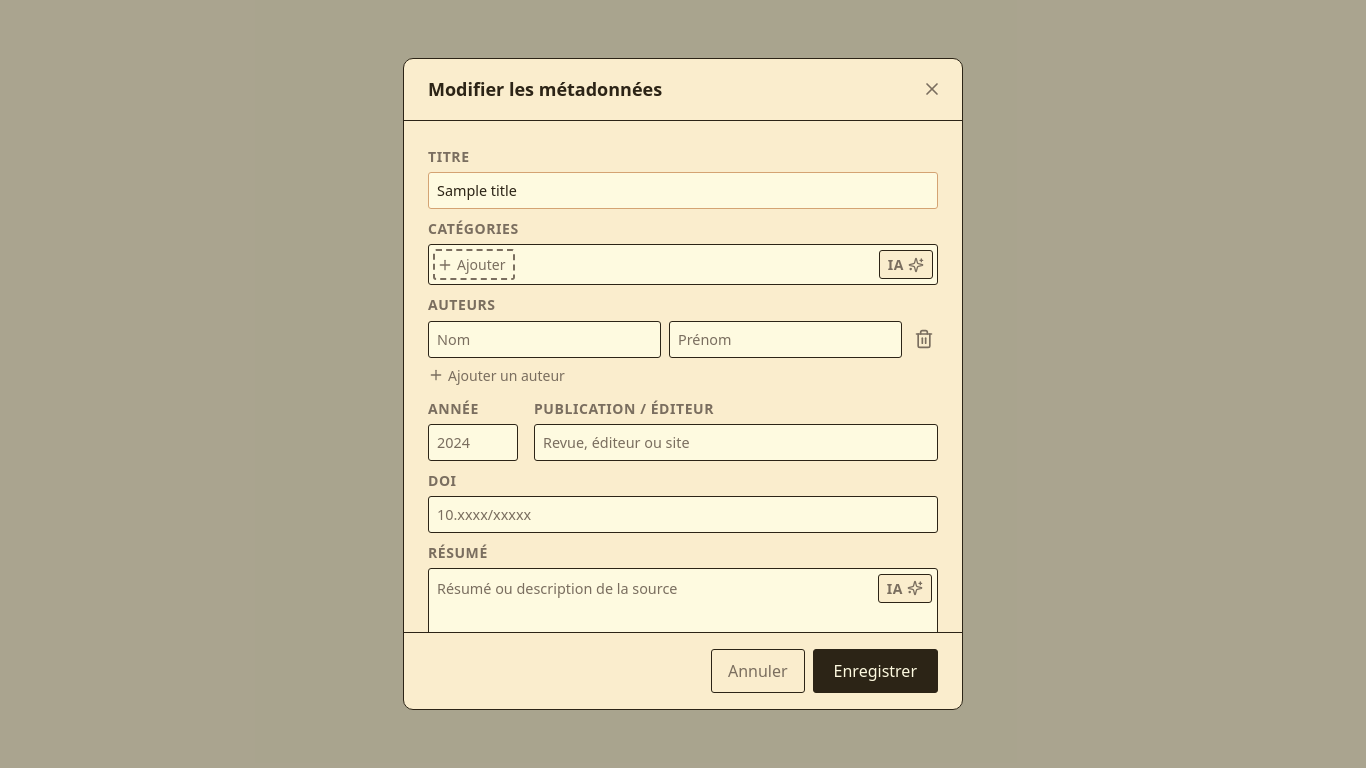
Test case: MetadataModal — handleGenerateAbstract › clicking IA while streaming aborts the in-flight request
First click — kicks off generation.
Step 1. Click the button with aria-label "générer un résumé avec l’IA" → (905,588), box x1=878 y1=574 x2=932 y2=603
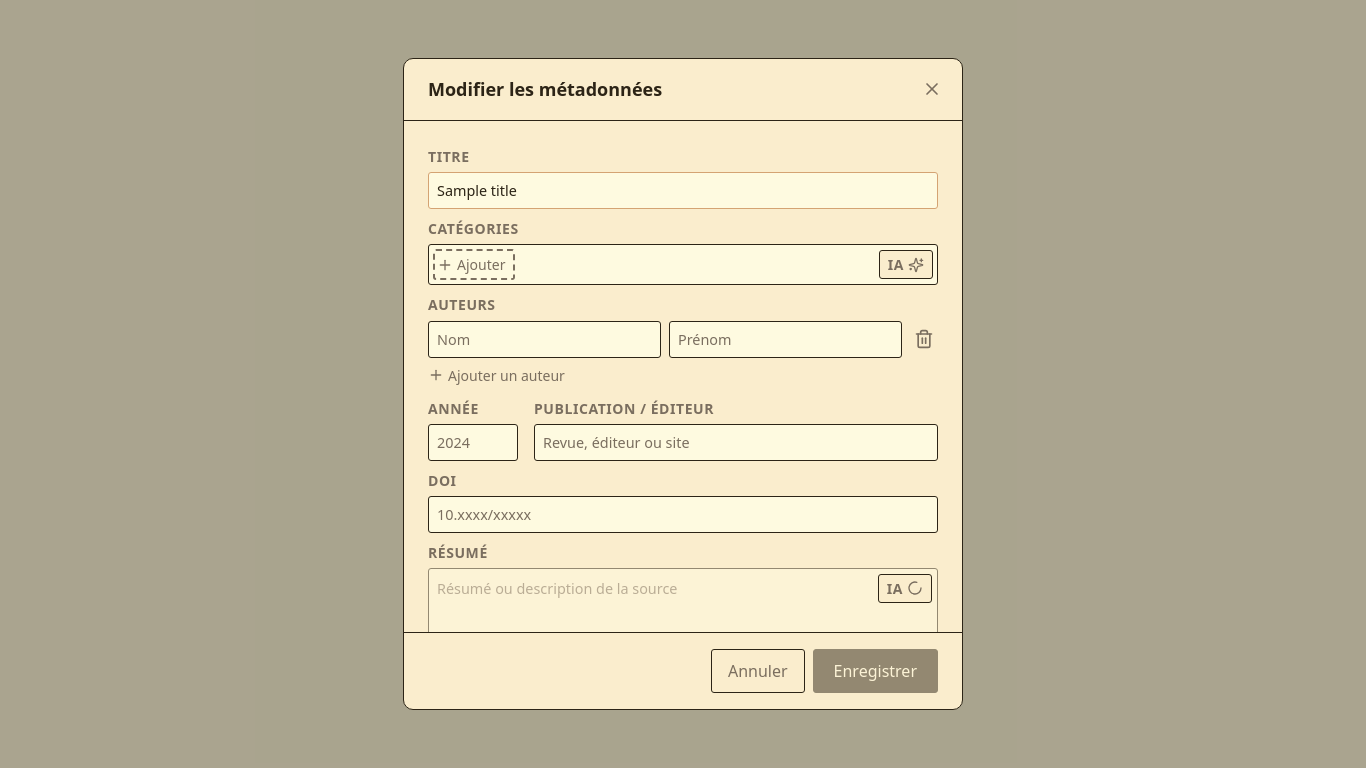
Second click — aborts.
Step 2. Click the button with aria-label "annuler la génération du résumé" → (905,588), box x1=878 y1=574 x2=932 y2=603
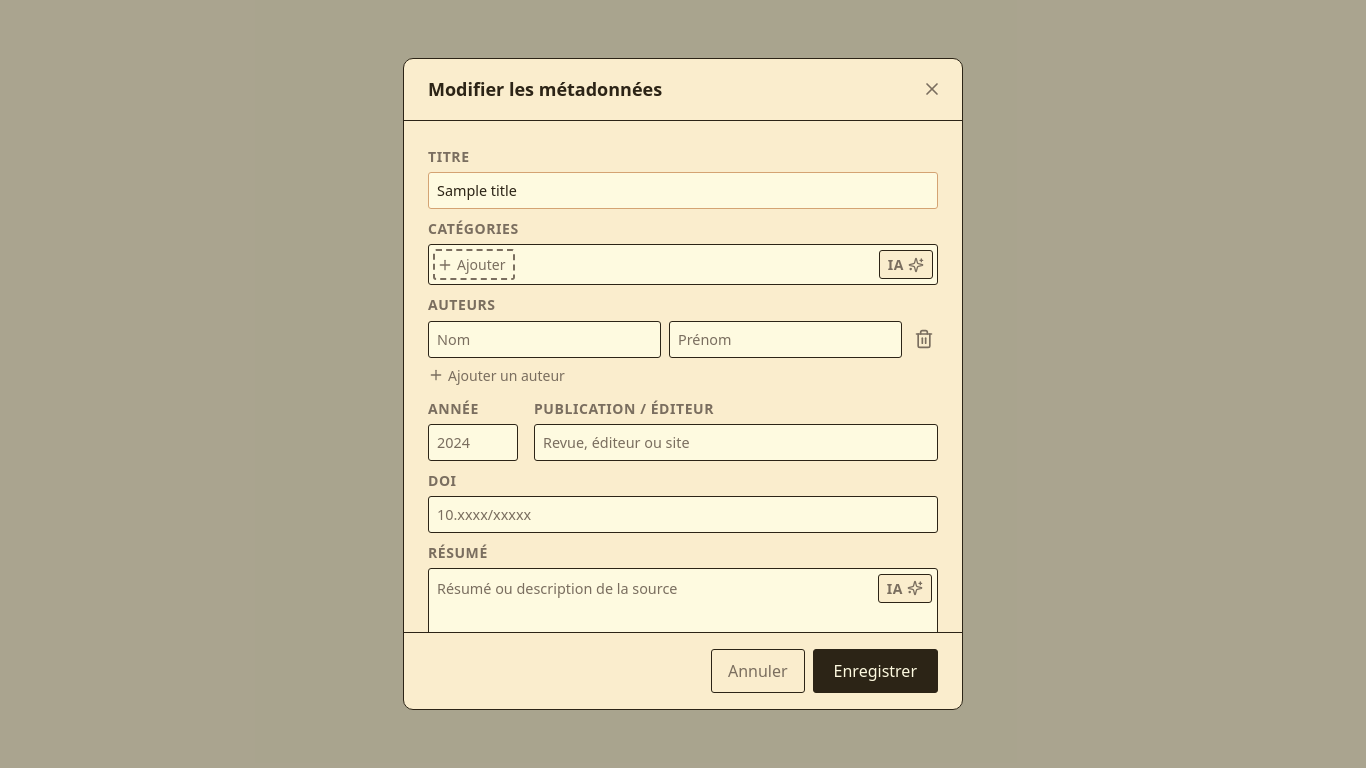
Now the button with aria-label "générer un résumé avec l’IA" is shown, box x1=878 y1=574 x2=932 y2=603
